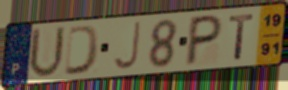8: (148, 17, 179, 70)
D: (62, 24, 101, 78)
J: (111, 20, 143, 72)
P: (182, 13, 226, 68)
T: (227, 12, 257, 61)
U: (27, 25, 68, 81)
